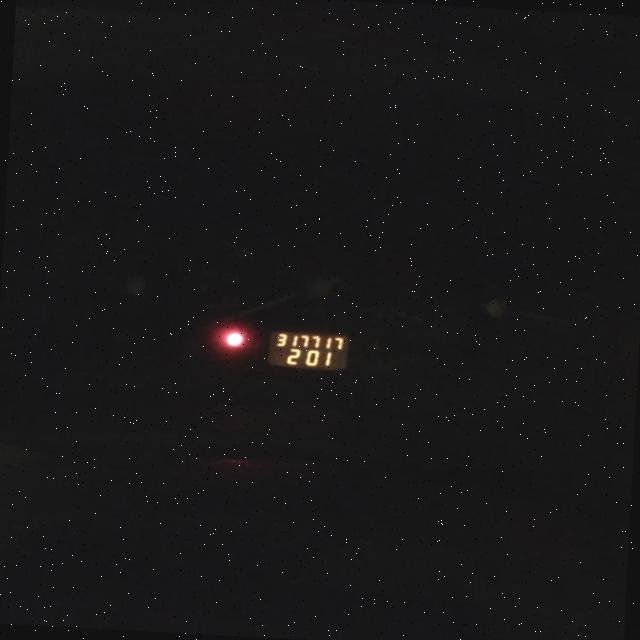odometer: (264, 328, 352, 372)
